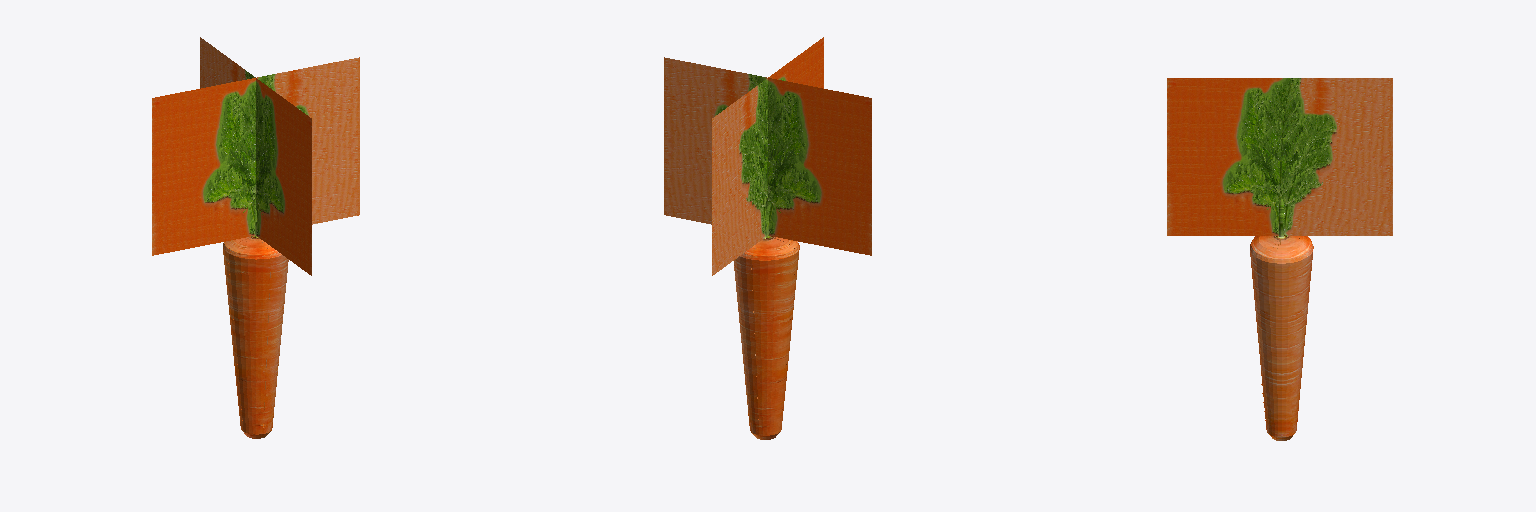
3 renders of one model, left to right at view 1: azimuth 30°, elevation 25°; view 2: azimuth 150°, elevation 25°; view 3: azimuth 270°, elevation 25°, orthographic.
Parts seen in each view (by area): view 1: Carrot_Original; view 2: Carrot_Original; view 3: Carrot_Original.
Boxes of the visible parts, x1,y1,x2,y2 form: Carrot_Original: [152, 37, 359, 438]; Carrot_Original: [664, 37, 871, 439]; Carrot_Original: [1167, 78, 1392, 440].
Bounding box in the file's own units: 598 × 1004 × 559.
Materials: 1 (1 with a texture image).